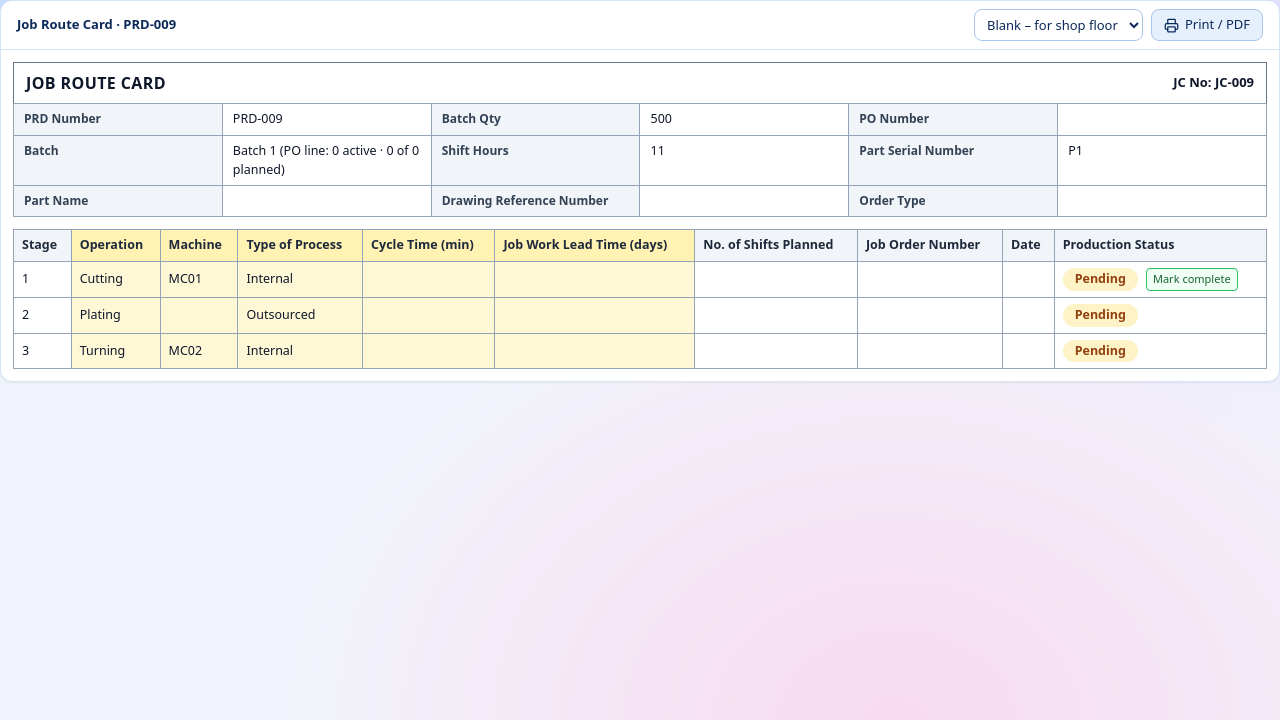
Test: Job Route Card -- Mark complete › DB refusal (047) shown as a toast
Check: the text "Cutting" is shown, box [71,262,160,297]
Click the button with aria-label "Mark stage 1 complete" at (1192, 279), box [1146,268,1238,290]
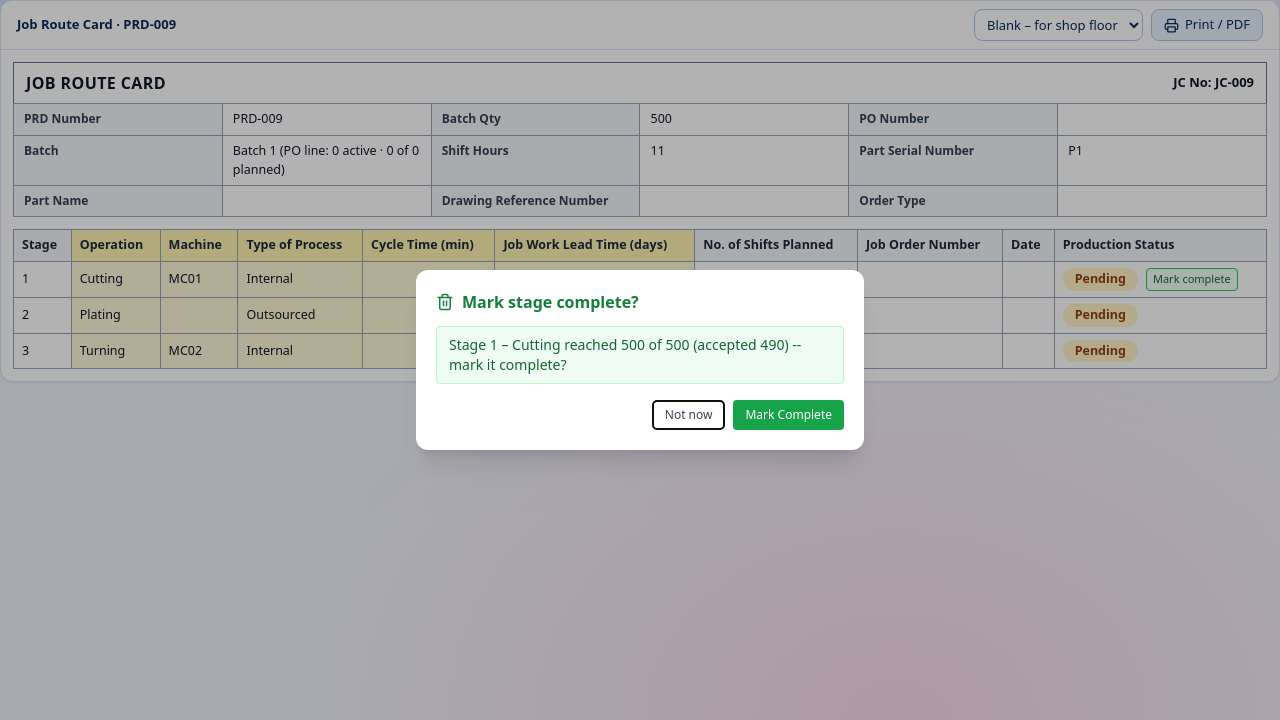
Click the button "Mark Complete" at (789, 415), box [734,400,844,430]
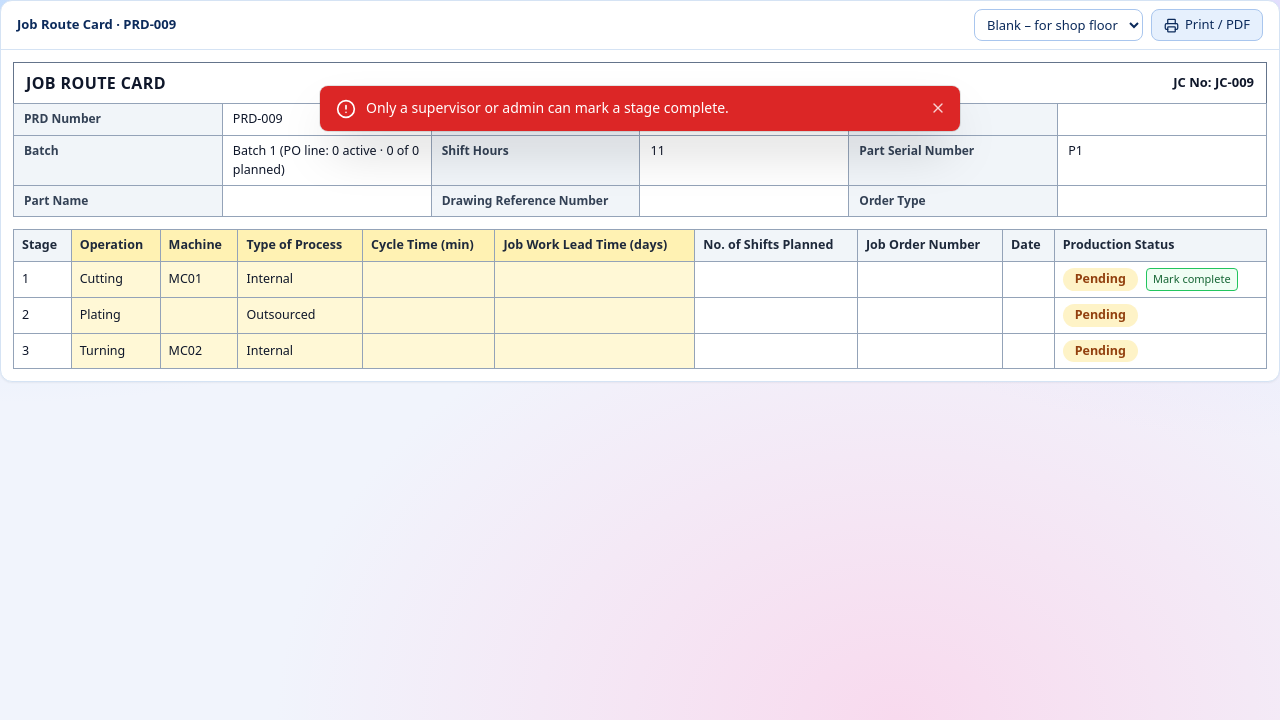
Check: the text "Only a supervisor or admin can mark a stage complete." is shown, box [366,98,729,117]
